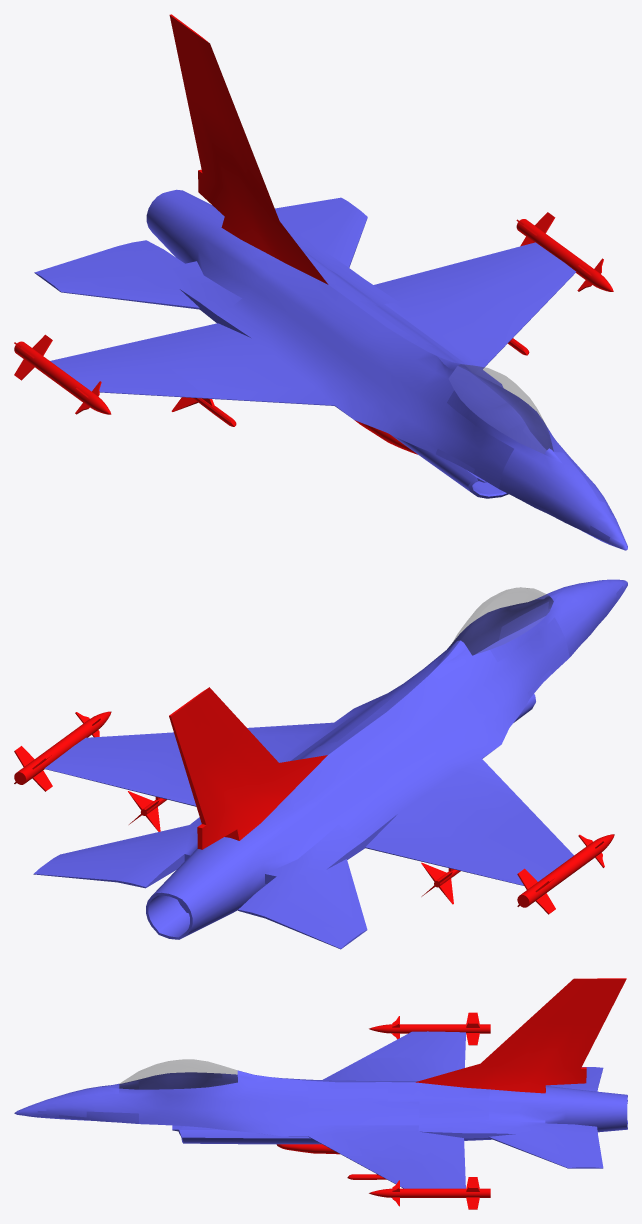
3 views of the same model, one above another, from view 1: azimuth 30°, elevation 25°; view 2: azimuth 150°, elevation 25°; view 3: azimuth 270°, elevation 25° (orthographic). The views are drawn at different scales.
Visible parts, largest first — view 1: f16body, wings, rudder, stabs, bombs, glass, thrust; view 2: f16body, wings, rudder, stabs, bombs, thrust, glass; view 3: f16body, wings, rudder, bombs, stabs, glass, thrust, fueltank.
Boxes of the visible parts, x1,y1,x2,y2 form: f16body: [118, 206, 627, 550]; wings: [50, 242, 575, 405]; rudder: [169, 14, 328, 284]; stabs: [34, 197, 367, 309]; bombs: [14, 212, 613, 426]; glass: [449, 364, 552, 453]; thrust: [146, 189, 213, 256]; f16body: [117, 579, 627, 919]; wings: [44, 722, 573, 885]; rudder: [169, 687, 327, 849]; stabs: [33, 825, 367, 949]; bombs: [14, 711, 614, 914]; thrust: [146, 864, 229, 939]; glass: [450, 587, 553, 654]; f16body: [14, 1070, 597, 1144]; wings: [308, 1031, 465, 1188]; rudder: [415, 978, 626, 1093]; bombs: [347, 1012, 490, 1209]; stabs: [488, 1067, 603, 1168]; glass: [119, 1059, 237, 1088]; thrust: [586, 1090, 627, 1132]; fueltank: [276, 1144, 339, 1154].
Bounding box in the file's own units: 2.38 × 1.1 × 3.53.
